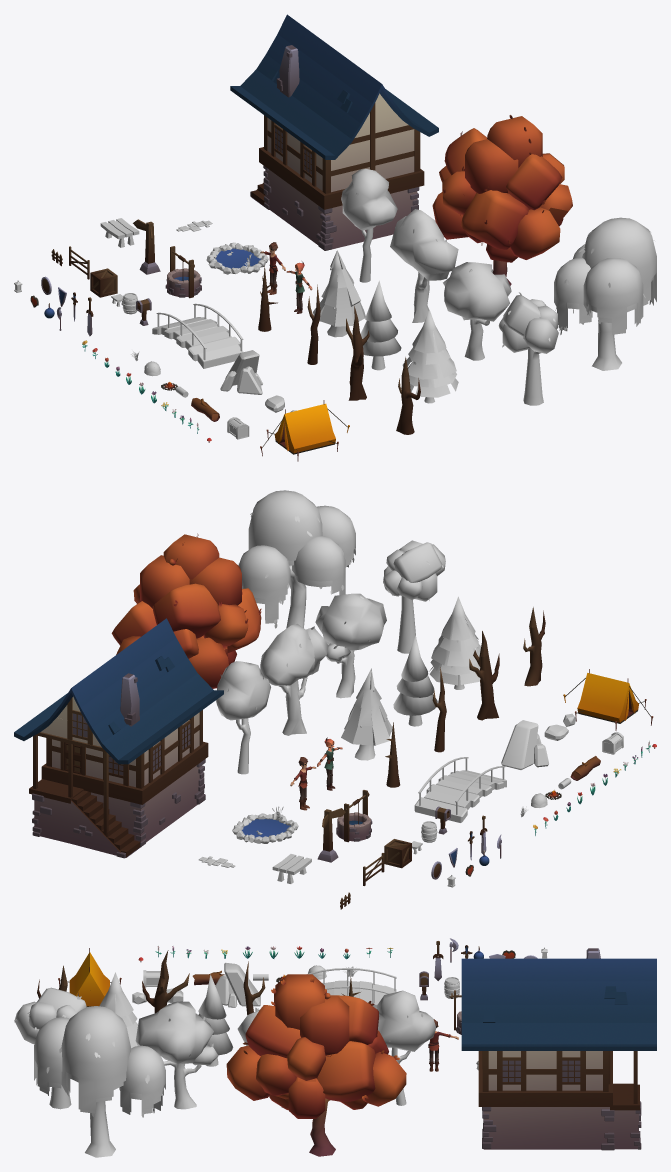
Rendered from assets.fbx.
3 views of the same model, one above another, from view 1: azimuth 30°, elevation 25°; view 2: azimuth 150°, elevation 25°; view 3: azimuth 270°, elevation 25° (orthographic). The views are drawn at different scales.
Parts seen in each view (by area): view 1: House, Maple_Tree, Willow_Tree, Tree2, Tree1, Tree, Woddenbridge, Tree4, Pinetree_V2, Tent, PineTree_V1, PineTree_V3 (+8 smaller); view 2: House, Maple_Tree, Willow_Tree, Tree2, Tree1, Tree, Tree4, Woddenbridge, Pinetree_V2, PineTree_V1, Tent, PineTree_V3 (+10 smaller); view 3: House, Maple_Tree, Willow_Tree, Tree2, Tree4, Tree, PineTree_V3, Tent, Woddenbridge, Rocks, Pinetree_V2, DeadTree1 (+2 smaller).
Part boxes in pixels (box(x1,y1,x2,y2)): House: box(230, 14, 438, 250); Maple_Tree: box(432, 115, 572, 285); Willow_Tree: box(554, 217, 656, 370); Tree2: box(443, 262, 511, 360); Tree1: box(390, 209, 458, 322); Tree: box(498, 292, 558, 405); Woddenbridge: box(152, 303, 243, 368); Tree4: box(341, 169, 397, 282); Pinetree_V2: box(401, 309, 458, 403); Tent: box(260, 400, 349, 461); PineTree_V1: box(313, 250, 365, 337); PineTree_V3: box(360, 280, 401, 370); House: box(14, 618, 223, 858); Maple_Tree: box(111, 533, 261, 688); Willow_Tree: box(238, 490, 355, 628); Tree2: box(315, 593, 386, 698); Tree1: box(260, 624, 328, 735); Tree: box(383, 540, 445, 653); Tree4: box(216, 661, 270, 774); Woddenbridge: box(414, 757, 506, 822); Pinetree_V2: box(429, 596, 480, 689); PineTree_V1: box(341, 668, 392, 760); Tent: box(563, 669, 653, 730); PineTree_V3: box(393, 635, 437, 726); House: box(461, 948, 656, 1150); Maple_Tree: box(226, 974, 406, 1156); Willow_Tree: box(34, 1006, 165, 1157); Tree2: box(135, 1001, 218, 1109); Tree4: box(376, 990, 436, 1105); Tree: box(14, 987, 86, 1109); PineTree_V3: box(198, 974, 233, 1066); Tent: box(58, 948, 121, 1006); Woddenbridge: box(307, 968, 396, 1008); Rocks: box(215, 962, 260, 1007); Pinetree_V2: box(99, 972, 137, 1048); DeadTree1: box(142, 950, 189, 1013).
Bounding box in the file's own units: 815 × 317 × 998.
